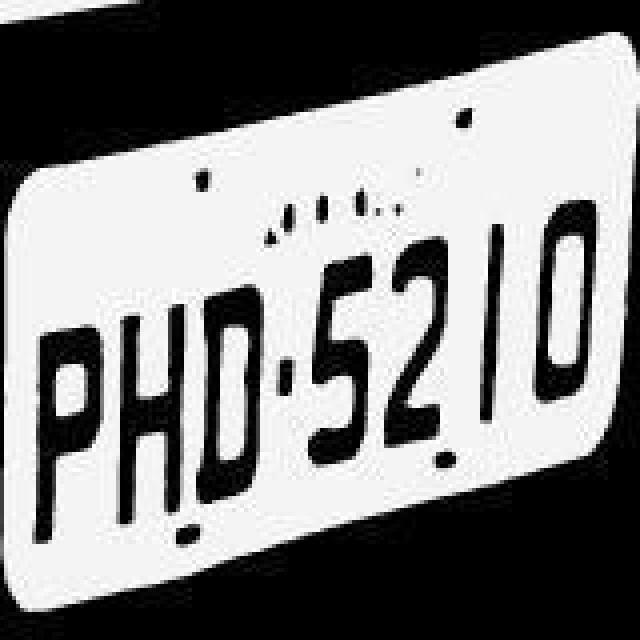1: (468, 202, 508, 446)
2: (378, 226, 454, 462)
5: (304, 240, 376, 480)
D: (194, 264, 270, 504)
H: (114, 286, 190, 530)
O: (534, 192, 602, 408)
P: (32, 294, 112, 554)
